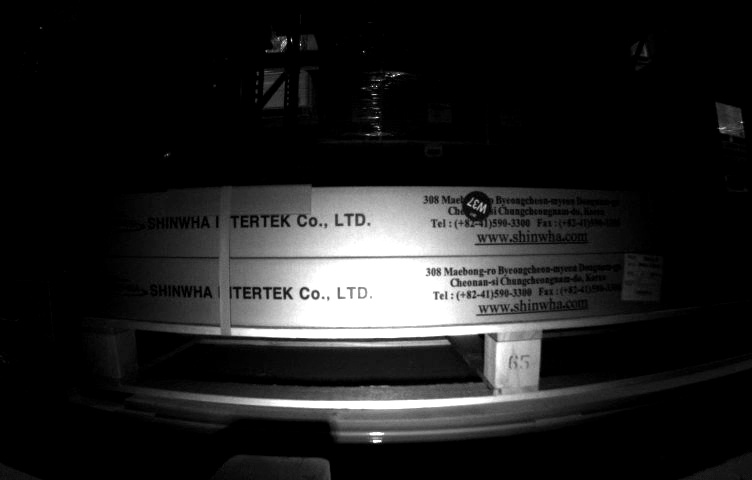True Barcode: (621, 251, 668, 306)
